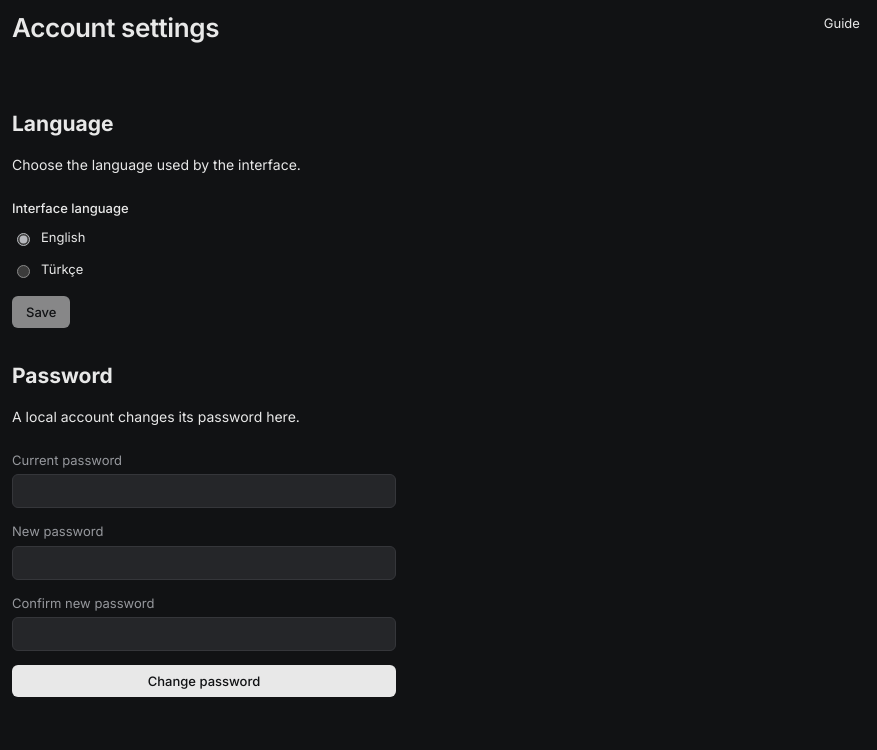
Test case: account language preference › disables the language control and says it is saving
Click the radio button labelled "Türkçe" at (24, 272), box x1=17 y1=265 x2=30 y2=278
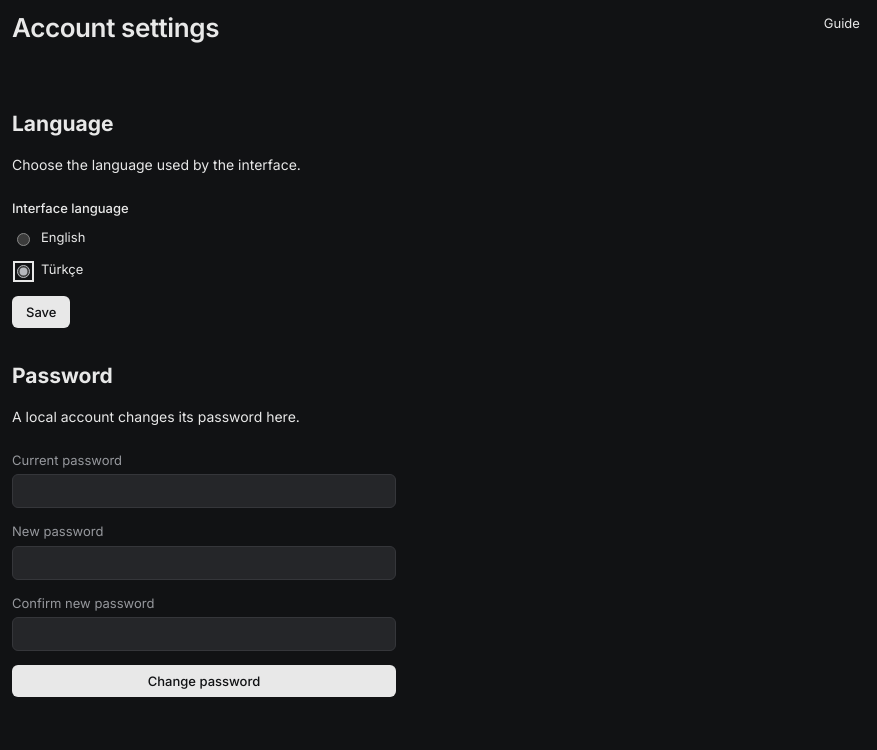
Click the button "Save" at (41, 312), box x1=12 y1=296 x2=70 y2=328
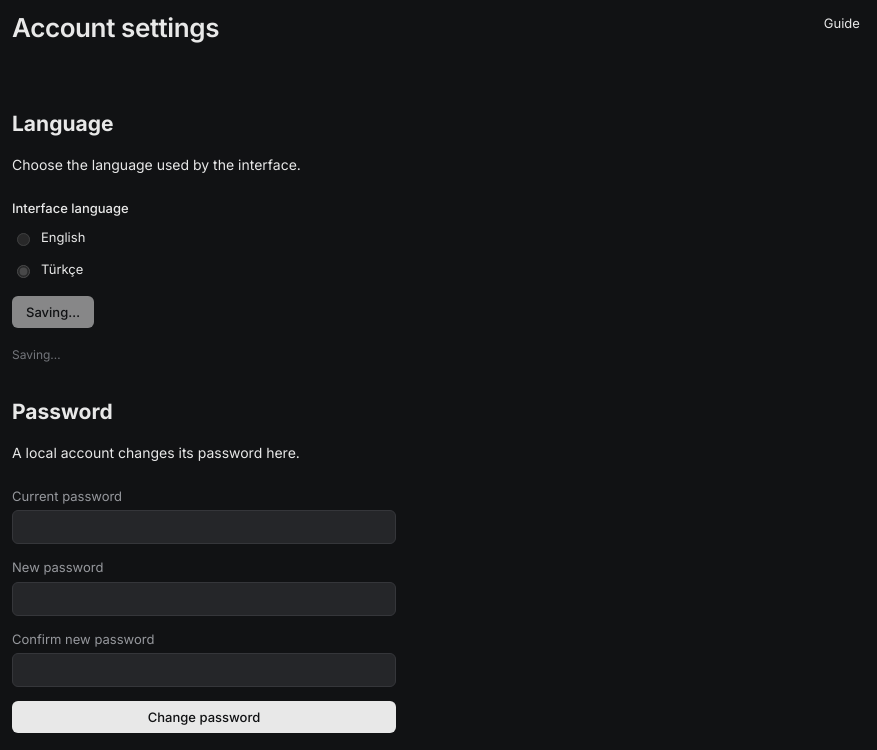
Now the button "Saving…" is disabled, box x1=12 y1=296 x2=94 y2=328
Now the element "Interface language" is disabled, box x1=12 y1=200 x2=129 y2=278
